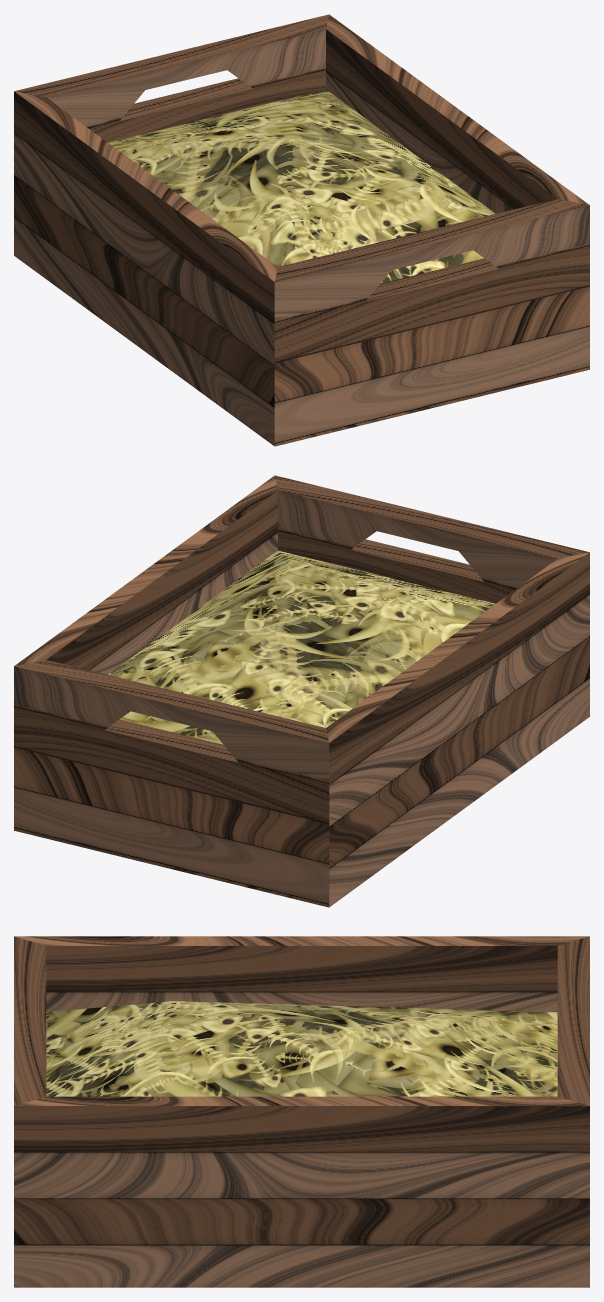
File: Fish_Crate.fbx
The picture shows the model from 3 angles, top to bottom: view 1: azimuth 30°, elevation 25°; view 2: azimuth 150°, elevation 25°; view 3: azimuth 270°, elevation 25°; orthographic projection. The views are drawn at different scales.
Visible parts, largest first — view 1: Fish_Crate; view 2: Fish_Crate; view 3: Fish_Crate.
Boxes of the visible parts, box(x1,y1,x2,y2) form: Fish_Crate: box(14, 14, 589, 446); Fish_Crate: box(14, 475, 589, 907); Fish_Crate: box(14, 936, 589, 1287).
Bounding box in the file's own units: 200 × 99.7 × 287.
